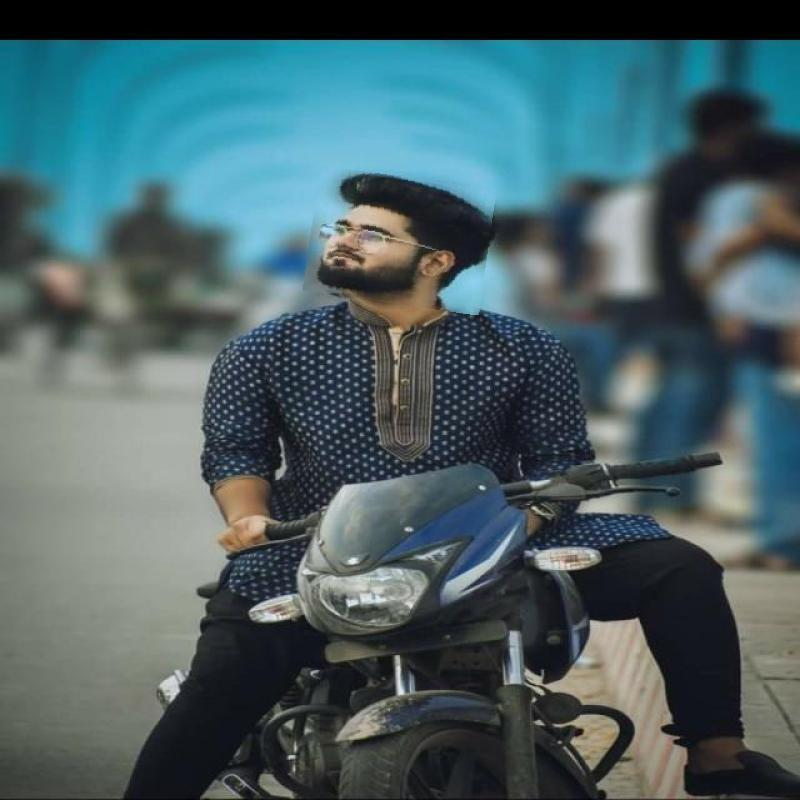nohelmet: (308, 171, 492, 310)
